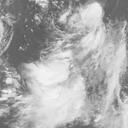cyclone: (76, 4, 105, 28)
